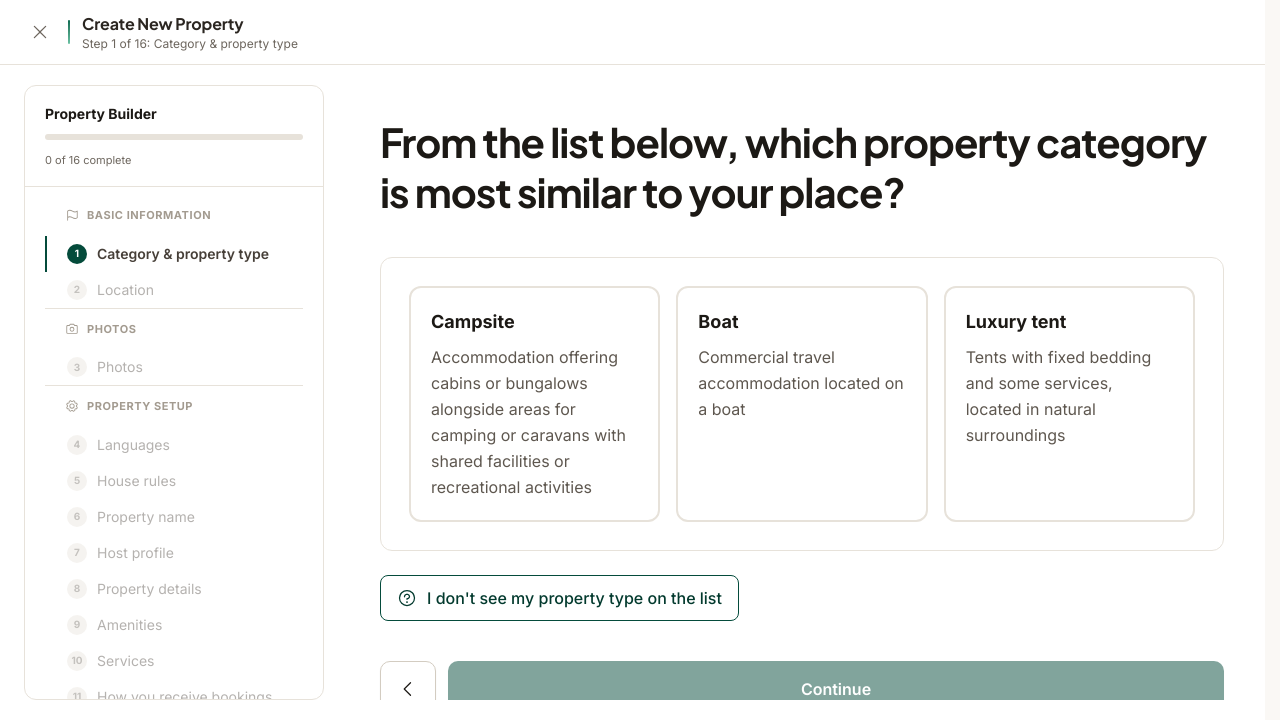
Test case: PropertyAlternativeCategoryPage — the three alternative categories › hands the chosen category to the how-many screen without creating a draft
Click the text "Luxury tent" at (1016, 322), box top-left (966, 311), bottom-right (1066, 332)
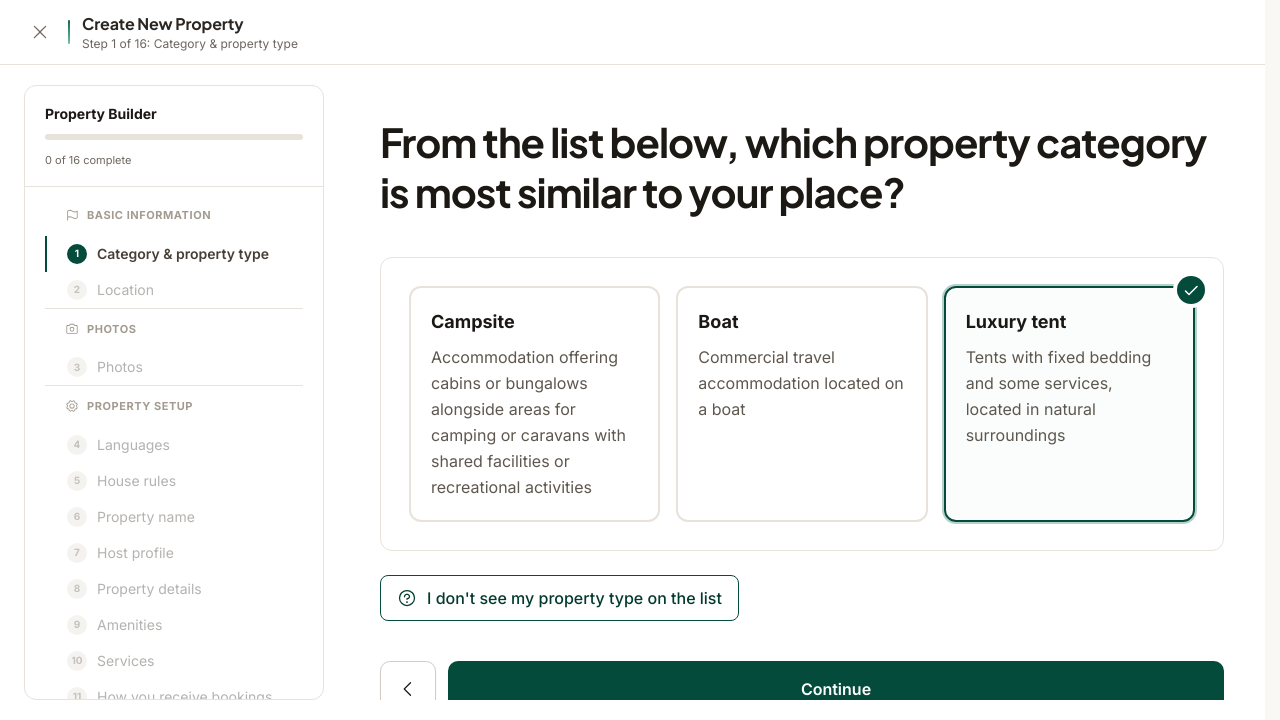
Click the button "Continue" at (836, 689), box top-left (448, 661), bottom-right (1224, 717)
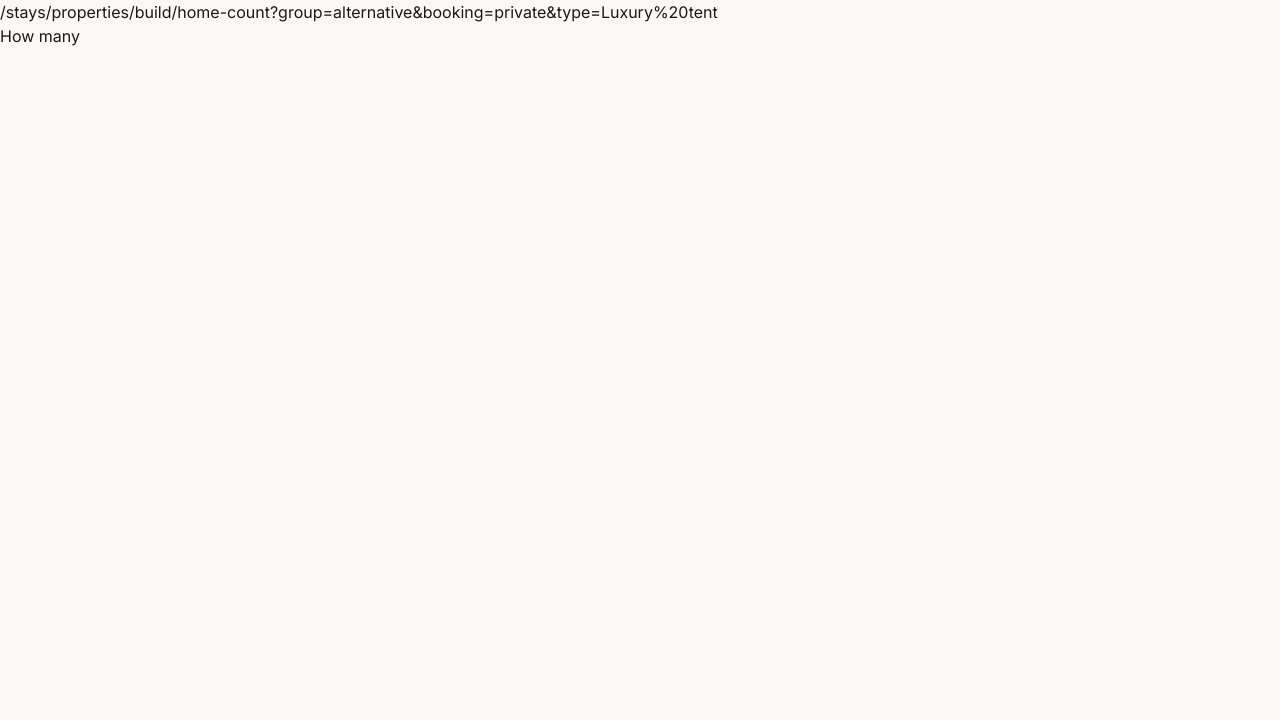
Check: the text with test id "location" shows "/stays/properties/build/home-count?group=alternative&booking=private&type=Luxury%20tent", box top-left (0, 2), bottom-right (718, 22)
